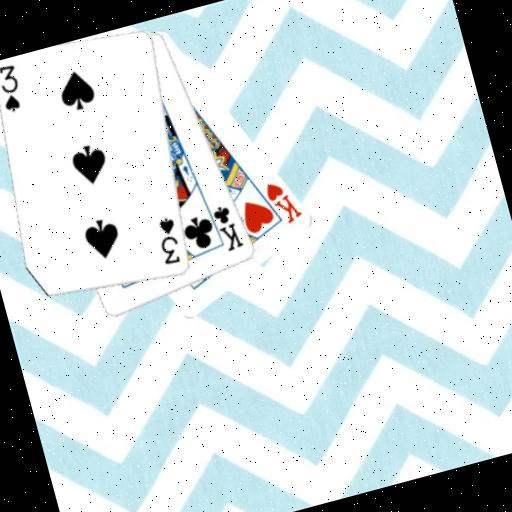3S: (150, 213, 186, 268), (0, 59, 26, 114)
KC: (202, 196, 246, 256)
KH: (260, 173, 305, 229)
